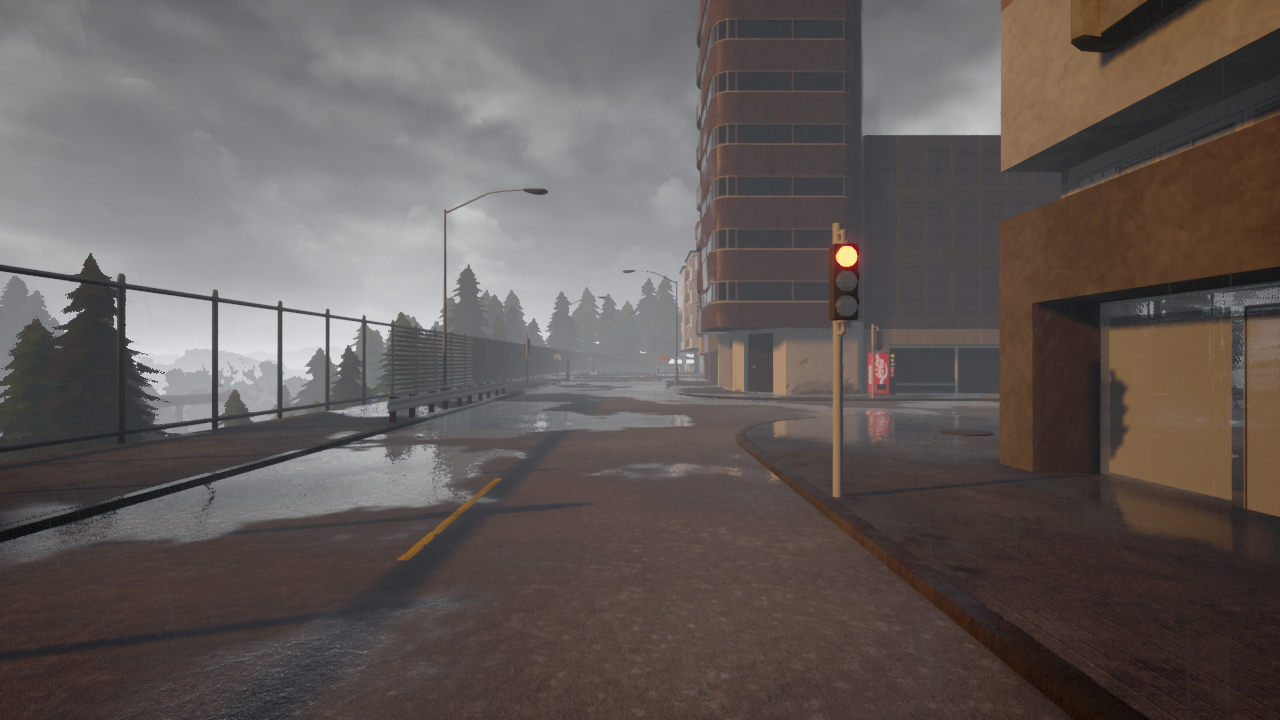red: (828, 243, 863, 320)
